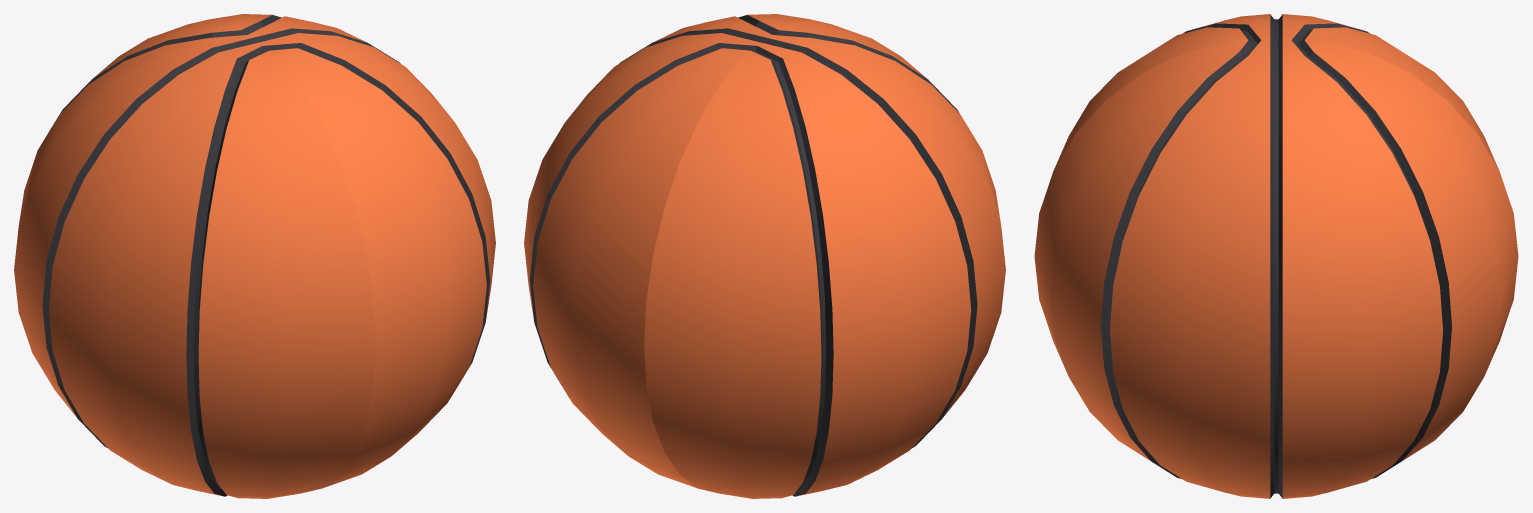
The model's file is Баскетболл.glb.
3 views of the same model, side by side, from view 1: azimuth 30°, elevation 25°; view 2: azimuth 150°, elevation 25°; view 3: azimuth 270°, elevation 25° (orthographic).
Parts seen in each view (by area): view 1: баскетбол; view 2: баскетбол; view 3: баскетбол.
Boxes of the visible parts, box(x1,y1,x2,y2) form: баскетбол: box(14, 14, 495, 498); баскетбол: box(524, 14, 1005, 498); баскетбол: box(1034, 14, 1518, 498).
Bounding box in the file's own units: 1.99 × 1.96 × 1.99.
Materials: 1 (1 with a texture image).
